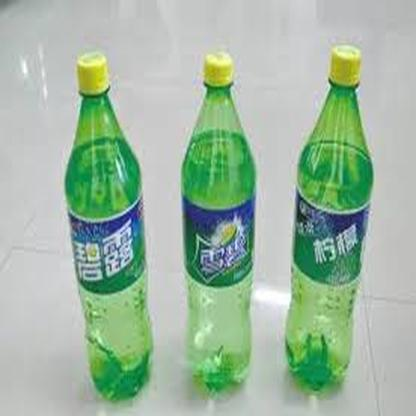plastic bottle: (286, 45, 375, 391), (65, 52, 152, 402), (185, 51, 254, 392)
